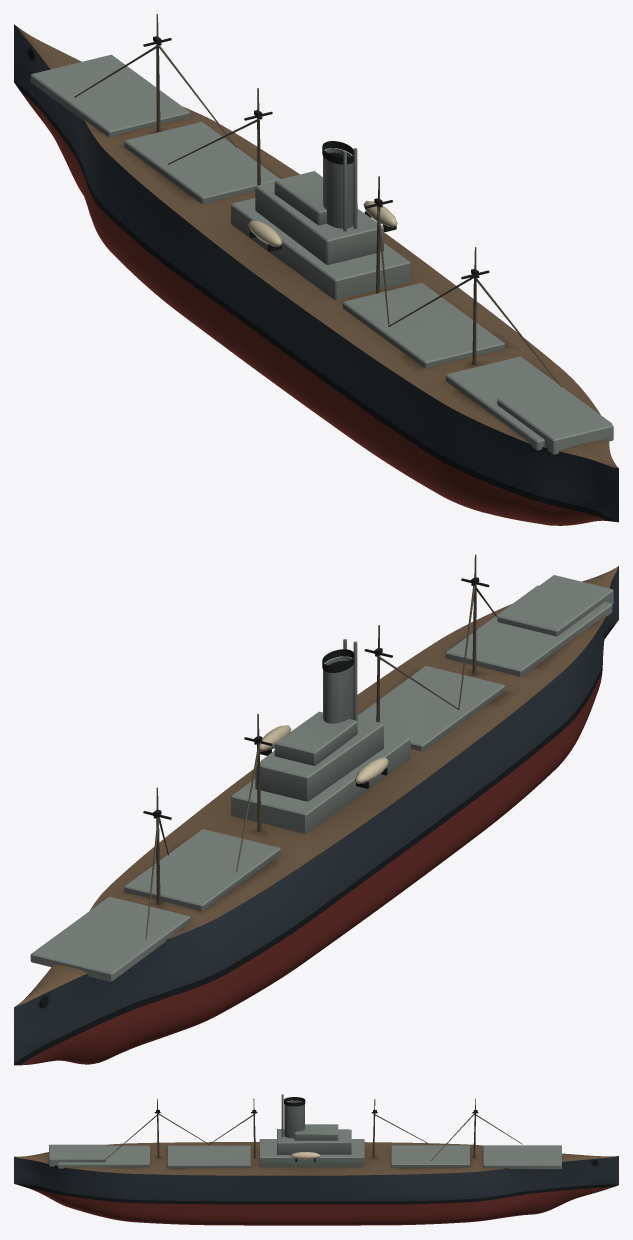
Rendered from ss-empire-ocelot.glb.
3 renders of one model, top to bottom at view 1: azimuth 30°, elevation 25°; view 2: azimuth 150°, elevation 25°; view 3: azimuth 270°, elevation 25°, orthographic. The views are drawn at different scales.
Visible parts, largest first — view 1: ss-empire-ocelot; view 2: ss-empire-ocelot; view 3: ss-empire-ocelot.
Boxes of the visible parts, left/top/right/bottom form: ss-empire-ocelot: left=14, top=14, right=618, bottom=525; ss-empire-ocelot: left=14, top=554, right=618, bottom=1065; ss-empire-ocelot: left=14, top=1094, right=618, bottom=1225.
Bounding box in the file's own units: 18.4 × 29.55 × 138.
